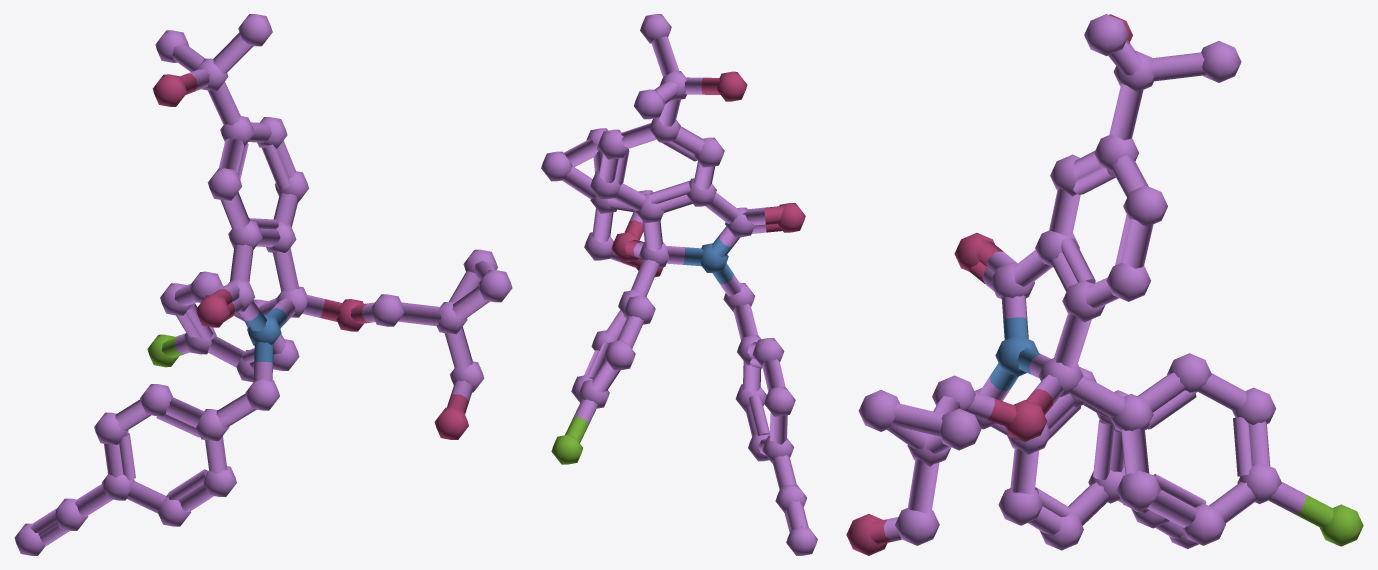
File: 7bmg-drug.glb
The picture shows the model from 3 angles, left to right: view 1: azimuth 30°, elevation 25°; view 2: azimuth 150°, elevation 25°; view 3: azimuth 270°, elevation 25°; orthographic projection. The views are drawn at different scales.
Visible parts, largest first — view 1: Test Export; view 2: Test Export; view 3: Test Export.
Boxes of the visible parts, x1=… form: Test Export: x1=14, y1=14, x2=512, y2=555; Test Export: x1=541, y1=14, x2=817, y2=555; Test Export: x1=846, y1=14, x2=1363, y2=555.
Size of the model in its own units: 10.31 by 13.15 by 9.47.
